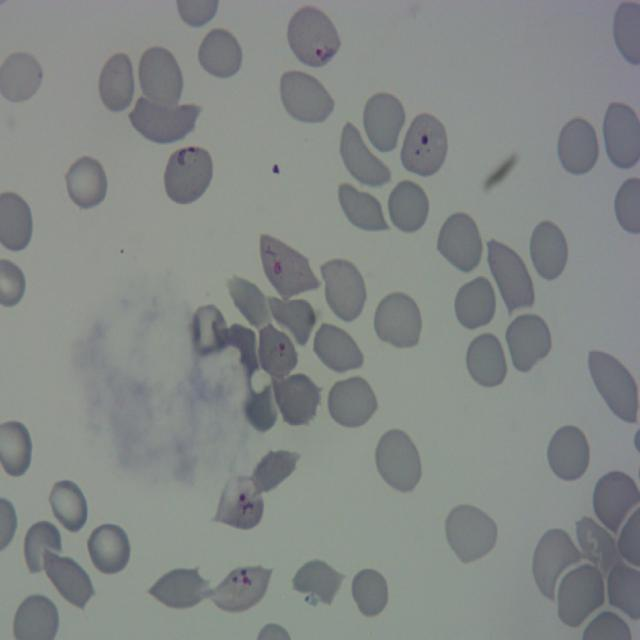leukocyte: (586, 346, 640, 422), (531, 525, 583, 601), (337, 120, 392, 188), (486, 240, 534, 316), (128, 93, 200, 143), (555, 562, 606, 631), (374, 426, 424, 495), (592, 468, 640, 538), (435, 208, 485, 275), (446, 500, 500, 561), (504, 310, 554, 375), (137, 43, 184, 112), (324, 373, 379, 431), (310, 320, 366, 376), (279, 69, 335, 124), (320, 258, 368, 322), (545, 422, 592, 484), (149, 567, 212, 613), (362, 89, 407, 153), (527, 218, 571, 283), (373, 291, 422, 348), (95, 50, 137, 116), (43, 554, 93, 609), (273, 370, 321, 427), (86, 520, 133, 578), (63, 153, 109, 212), (385, 178, 431, 236), (452, 274, 498, 332), (46, 476, 90, 536), (196, 26, 244, 81), (22, 520, 65, 580), (576, 516, 619, 576), (249, 447, 299, 498), (268, 293, 316, 346), (338, 179, 385, 233), (557, 118, 600, 177), (188, 303, 230, 362), (292, 561, 341, 606), (242, 377, 280, 435), (350, 566, 390, 620), (224, 278, 270, 324), (468, 334, 507, 387), (221, 324, 259, 378)
red blood cell: (258, 233, 317, 299), (162, 141, 215, 207), (287, 6, 342, 66), (206, 562, 272, 611), (212, 474, 264, 532), (258, 322, 298, 377)
